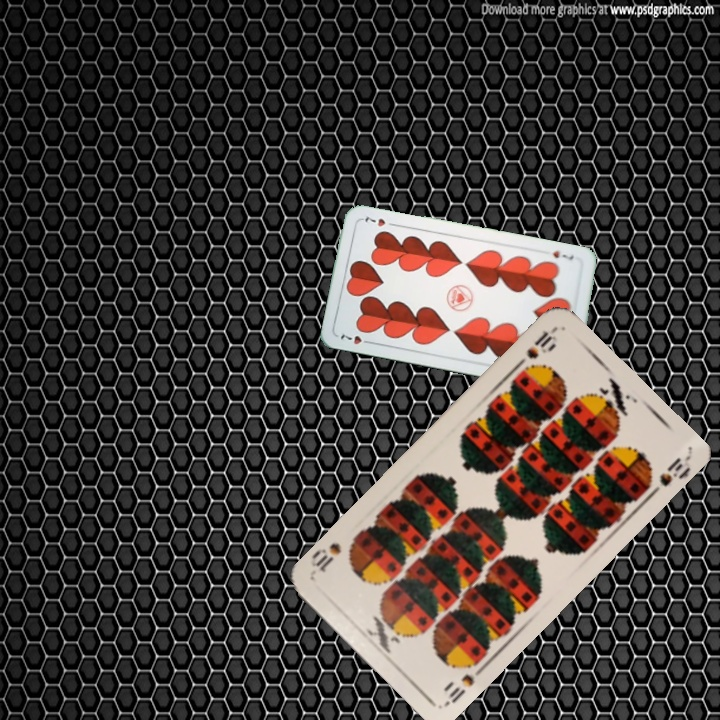H7: (336, 330, 375, 347), (549, 247, 576, 263)
S10: (441, 656, 488, 709), (511, 324, 560, 371)
